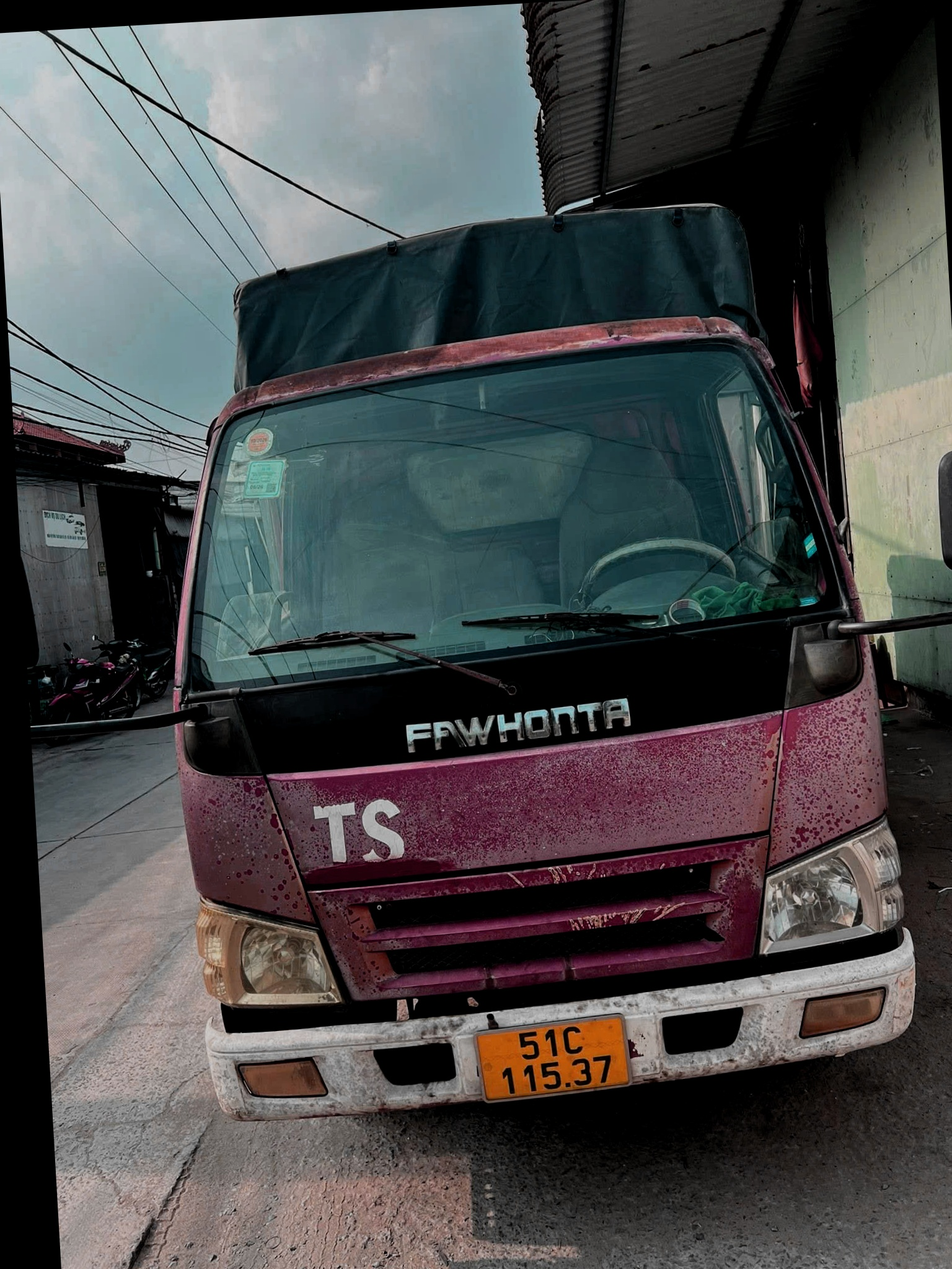Bien-so: (471, 1009, 635, 1115)
